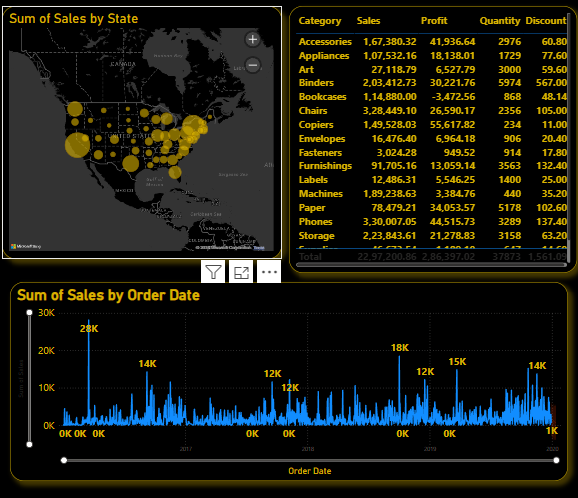

The page's visual inventory and layout, read from the dashboard file:
{"tool":"powerbi","page":{"name":"Page 2","canvas":[1280,1100],"ordinal":1},"visuals":[{"type":"lineChart","fields":{"Y":["Sum(Orders.Sales)"],"Category":["Orders.Order Date"]},"box":[34.8,618.2,1208.2,431],"z":1000},{"type":"map","fields":{"Category":["Orders.State"],"Size":["Sum(Orders.Sales)"]},"box":[17.3,21.7,606.3,547.8],"z":1001},{"type":"tableEx","fields":{"Values":["Orders.Sub-Category","Sum(Orders.Sales)","Sum(Orders.Profit)","Sum(Orders.Quantity)","Sum(Orders.Discount)"]},"box":[638.8,21.7,623.6,578.1],"z":1002}]}

Visuals, with their boxes in screenshot pixels (x1, y1, x2, y2), scaled from the page's 1280x1100 canvas onto the 578x498 screenshot:
lineChart - Sum(Orders.Sales) x Orders.Order Date: 16 280 561 475
map - Orders.State x Sum(Orders.Sales): 8 10 282 258
tableEx - Orders.Sub-Category x Sum(Orders.Sales): 288 10 570 272
